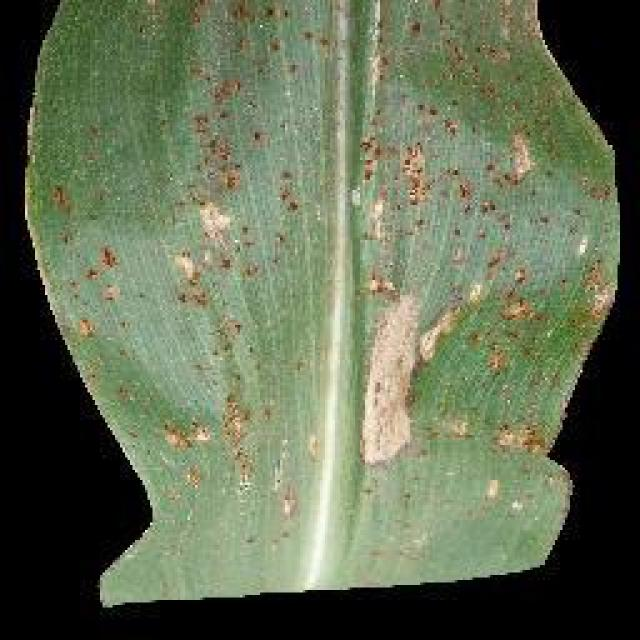Corn Common Rust: (93, 79, 602, 554)
